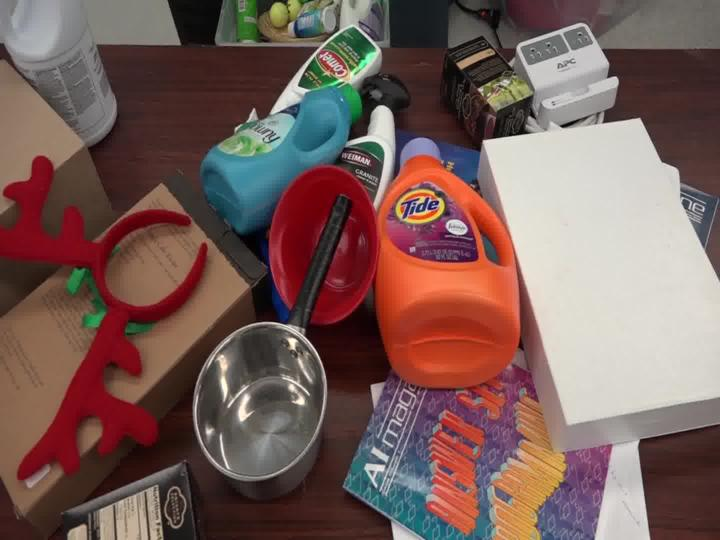tide: (349, 111, 540, 393)
